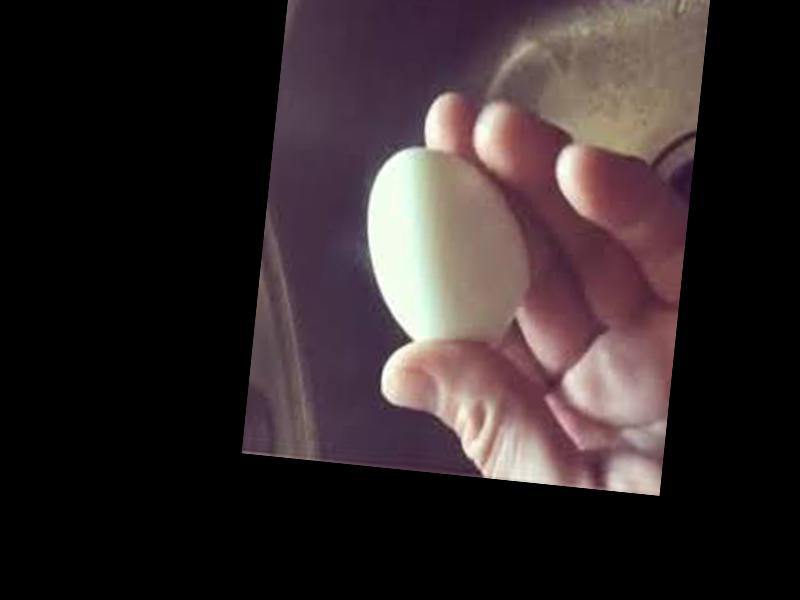Eggs: (354, 146, 536, 355)
